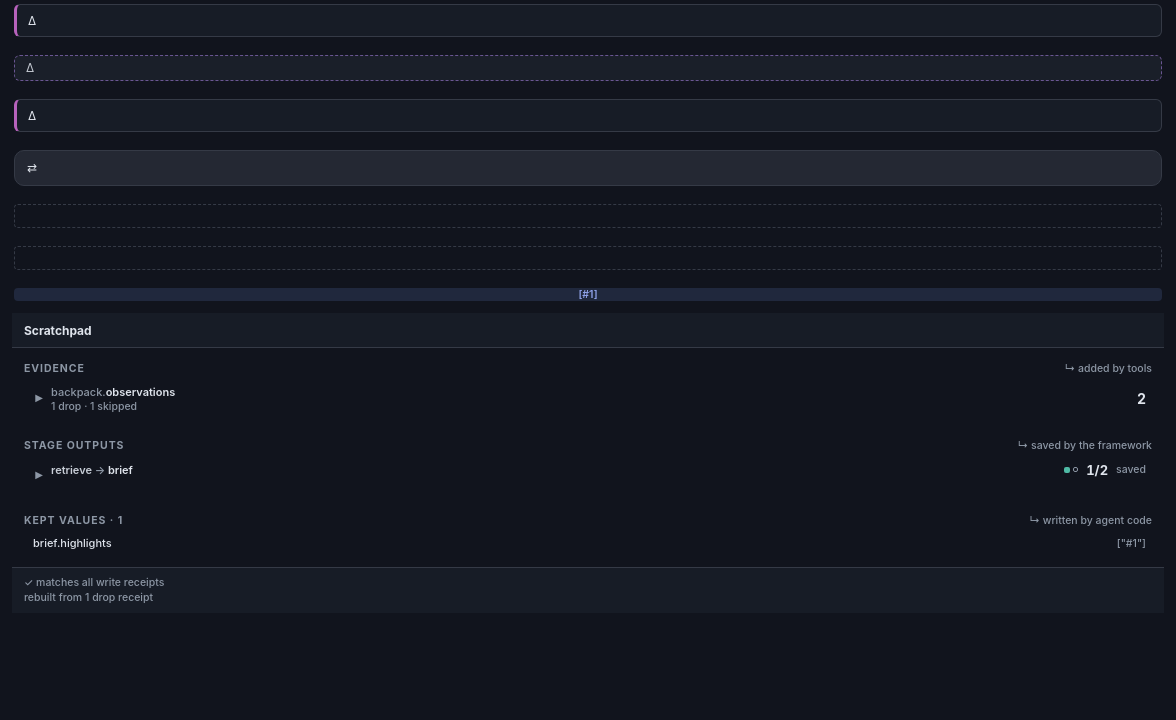
Test case: rail states › steady state: three-writer captions, hero grammar, collapsed ledger, receipt footer
Expected: the element showing "backpack.observations" is shown, [51,385,175,399]
Expected: the text "backpack." is shown, [51,385,106,399]
Click the button with class "chev" below "Evidence". click: (39, 398)
box: [27,381,51,415]
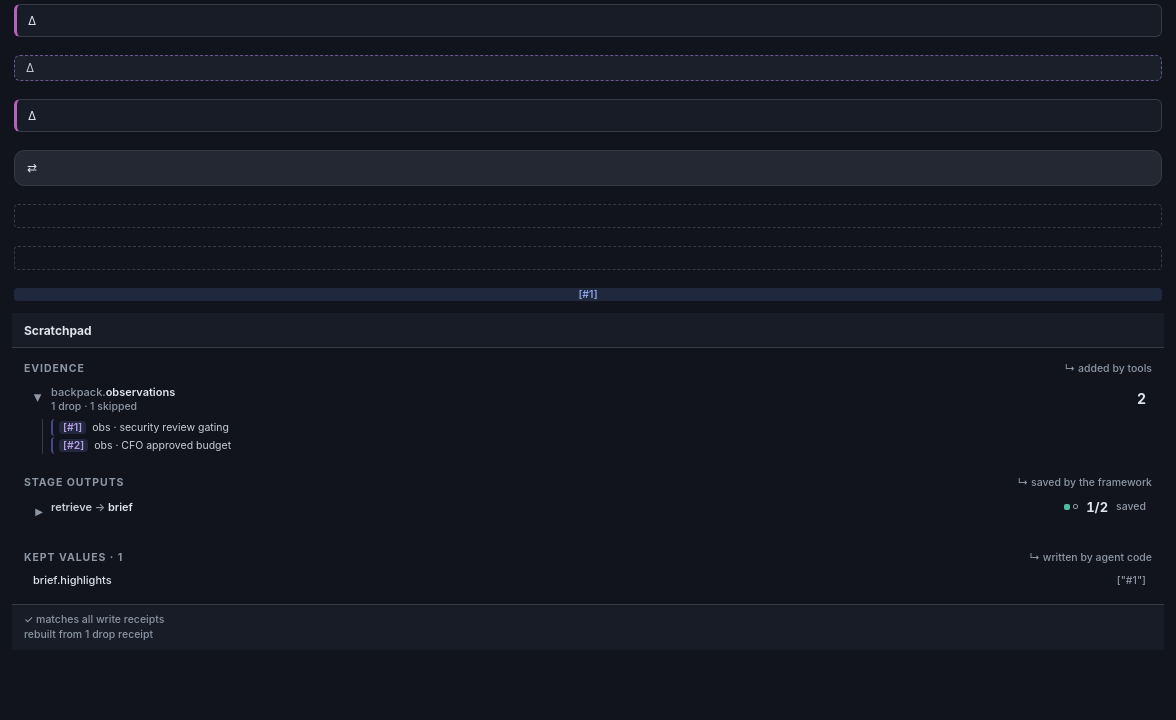
Expected: the element with class "chain" reads "retrieve → brief", [51,500,133,514]
Expected: the text with class "done" reads "retrieve", [51,500,92,514]
Click the button "▶" below "Stage outputs". click: (39, 512)
box: [27,495,51,529]
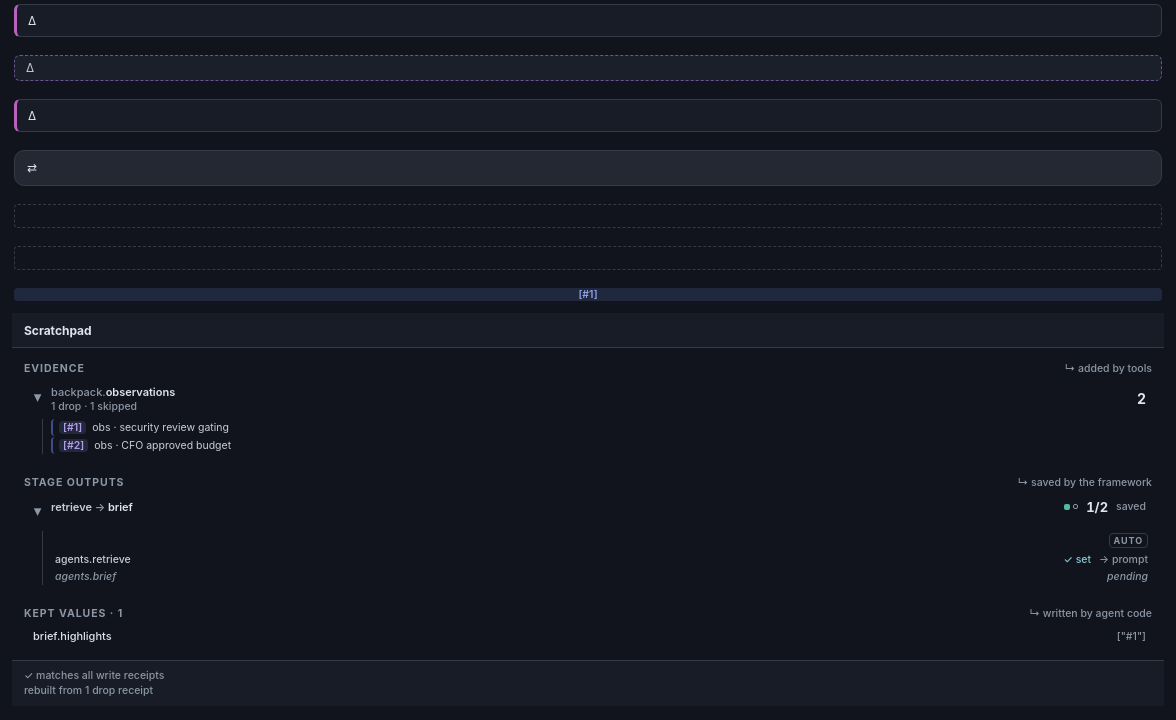
Now the text with class "innate-chip" reads "auto", box [1114,535,1143,546]
Now the button with class "srow" shows "agents.retrieve", box [51,551,1152,568]
Now the text "✓ set" is shown, box [1064,553,1091,566]
